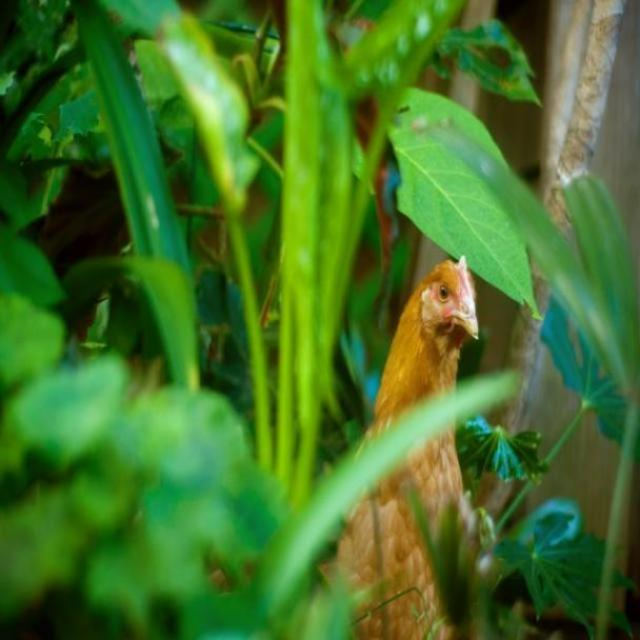Chicken: (346, 238, 488, 597)
